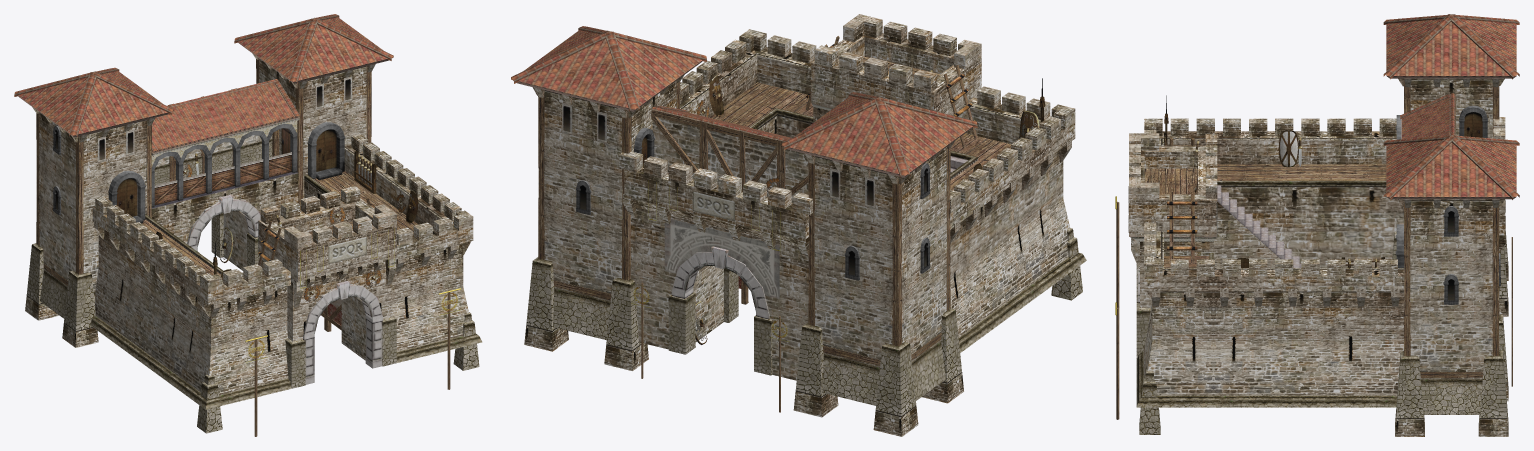
Rendered from rome_fortress.dae.
3 views of the same model, side by side, from view 1: azimuth 30°, elevation 25°; view 2: azimuth 150°, elevation 25°; view 3: azimuth 270°, elevation 25° (orthographic). The views are drawn at different scales.
Visible parts, largest first — view 1: rome_fortress; view 2: rome_fortress; view 3: rome_fortress.
Part boxes in pixels (left/top/right/bottom): rome_fortress: left=14, top=14, right=482, bottom=436; rome_fortress: left=511, top=14, right=1086, bottom=436; rome_fortress: left=1115, top=14, right=1519, bottom=436.
Bounding box in the file's own units: 27.87 × 26.71 × 21.24.
